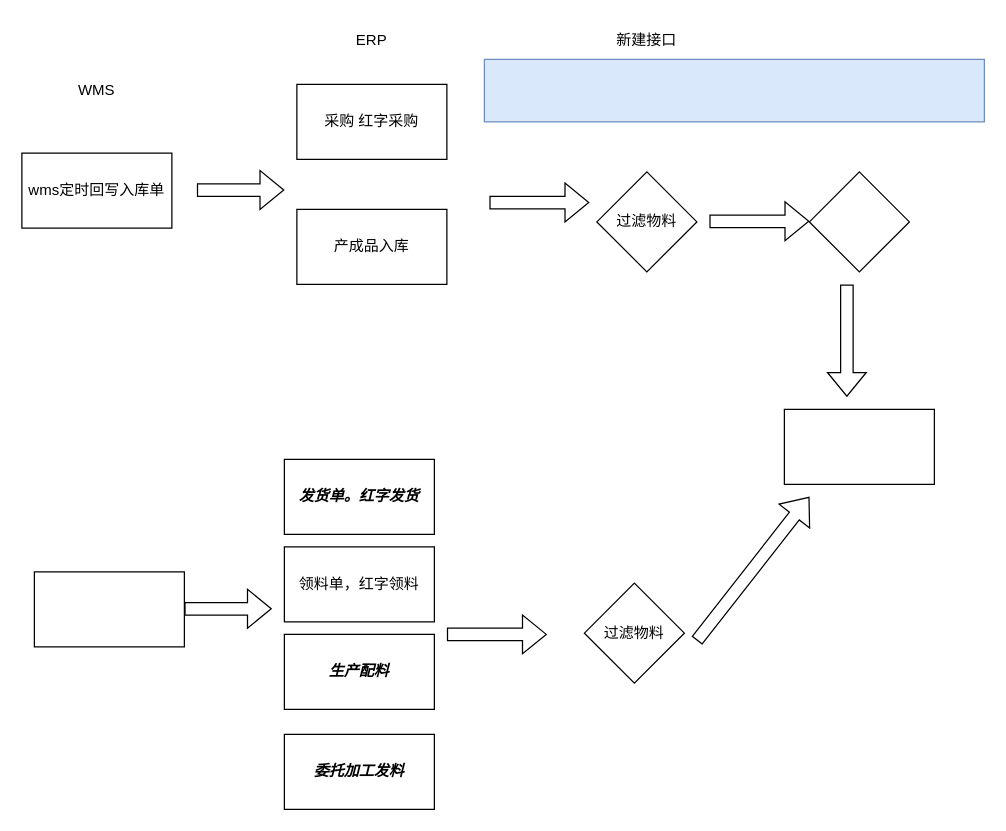
Image size: 1006x831. Some labels were removed from this diagram. Each missing label, with the box of its shape:
wms定时回写出库单: (33, 571, 184, 647)
同步cmp: (783, 408, 934, 484)
校验实收数量是否满足条件: (808, 171, 909, 272)
物料品名为 产品线是 SIM卡服务且物料型号以NBSIM或CAT1SIM开头的物料: (483, 58, 984, 122)
